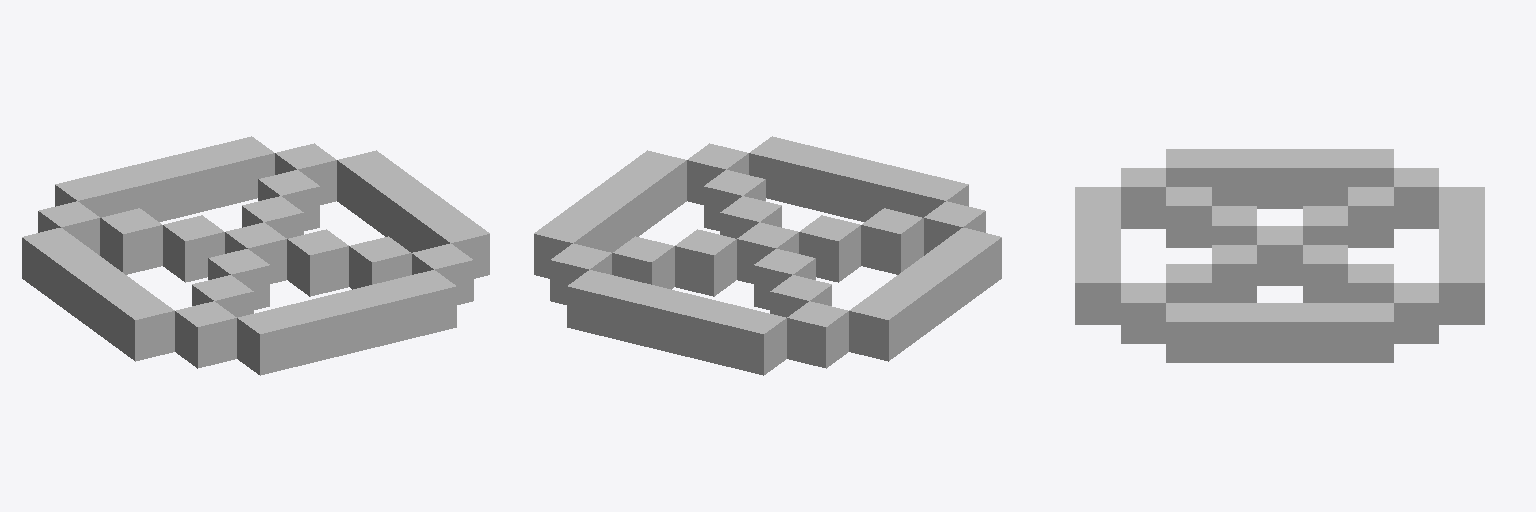
Rendered from gear.obj.
3 renders of one model, left to right at view 1: azimuth 30°, elevation 25°; view 2: azimuth 150°, elevation 25°; view 3: azimuth 270°, elevation 25°, orthographic.
Visible parts, largest first — view 1: gear; view 2: gear; view 3: gear.
Boxes of the visible parts, x1=… form: gear: x1=22, y1=136, x2=489, y2=375; gear: x1=534, y1=136, x2=1001, y2=375; gear: x1=1075, y1=149, x2=1484, y2=362.
Size of the model in its own units: 0.9 by 0.1 by 0.9.